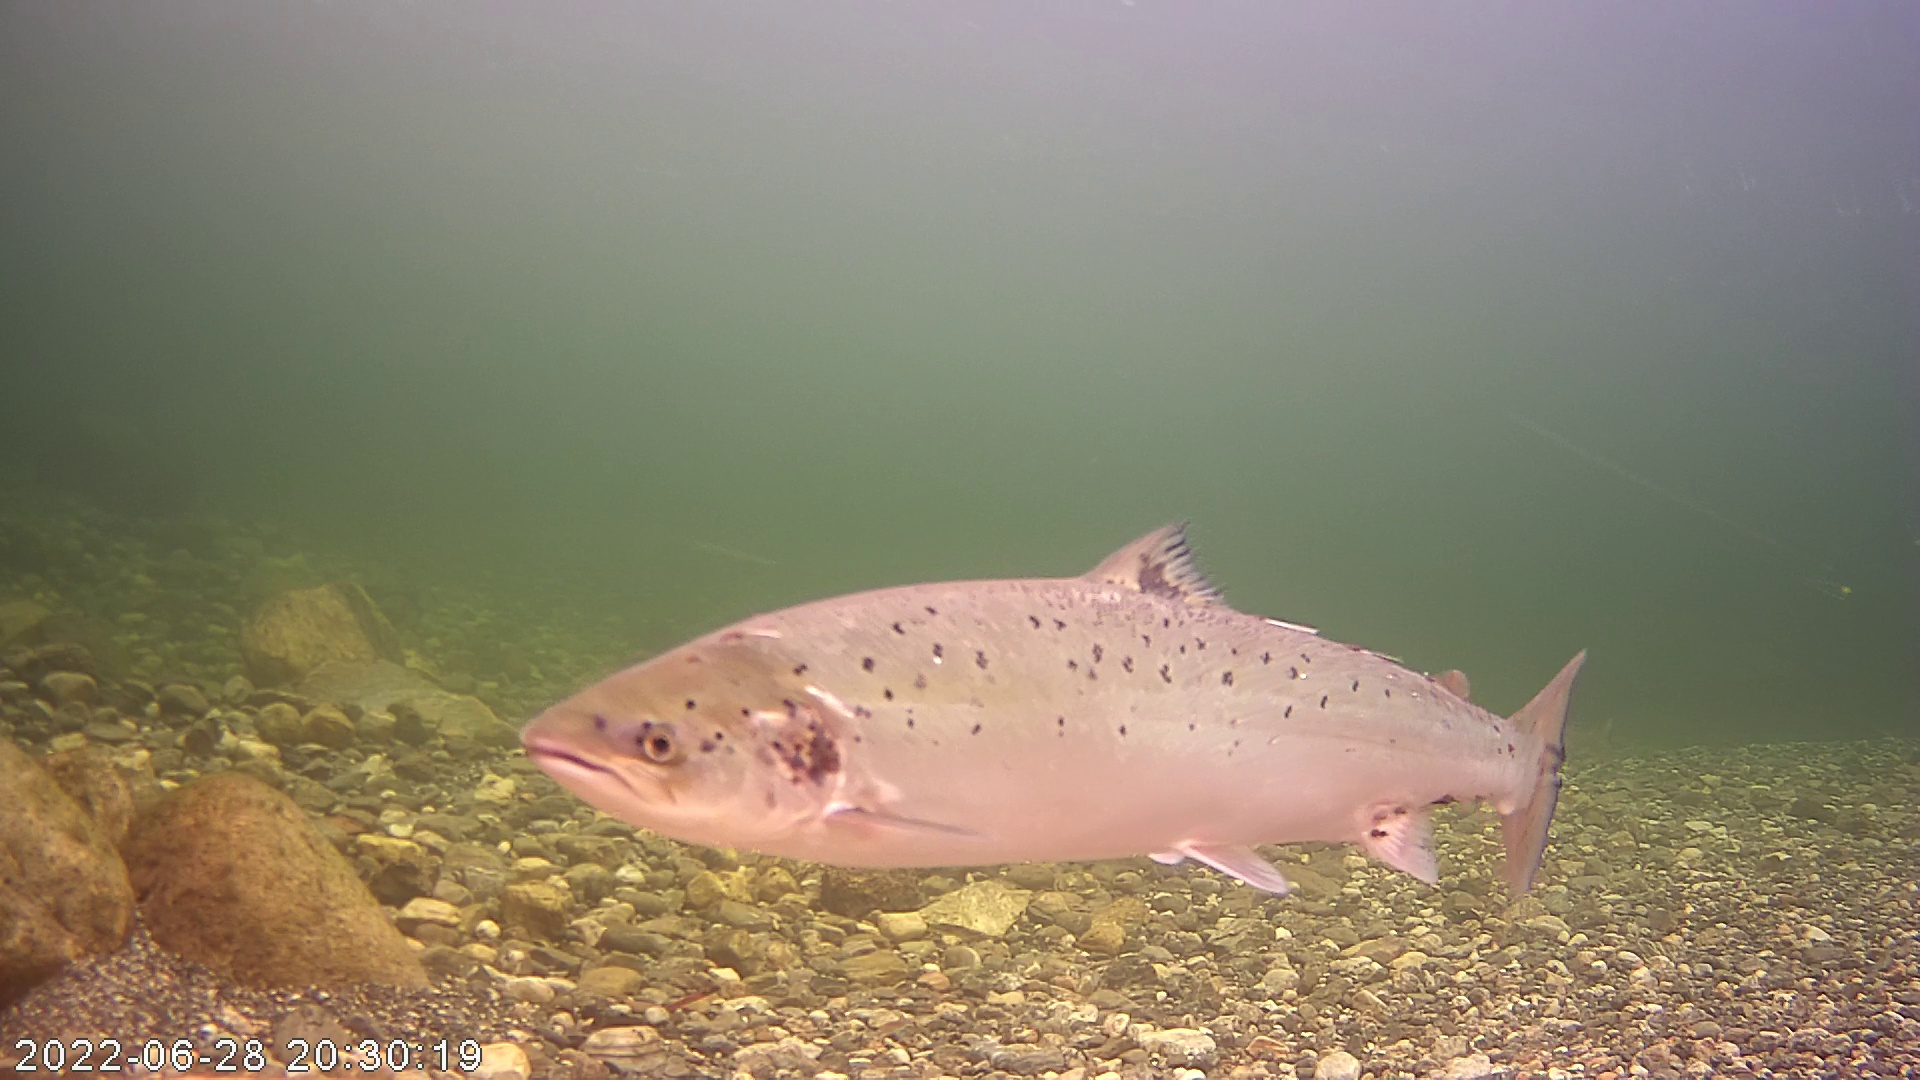salmon: (547, 465, 1600, 884)
